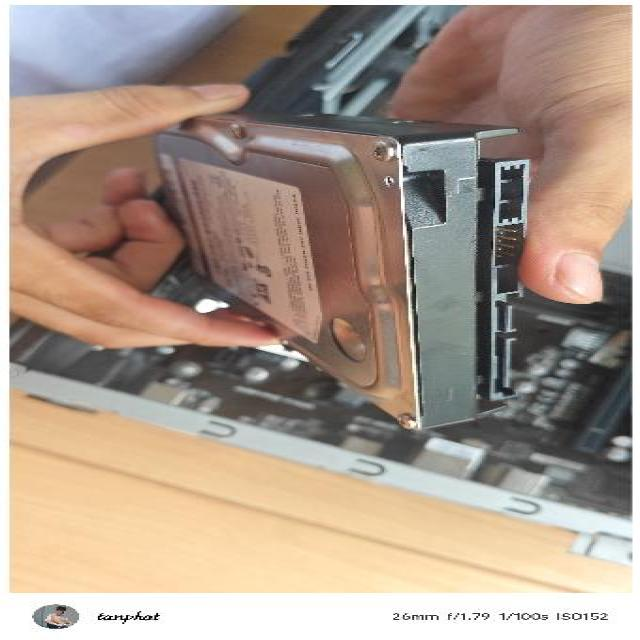DISK: (140, 98, 532, 430)
